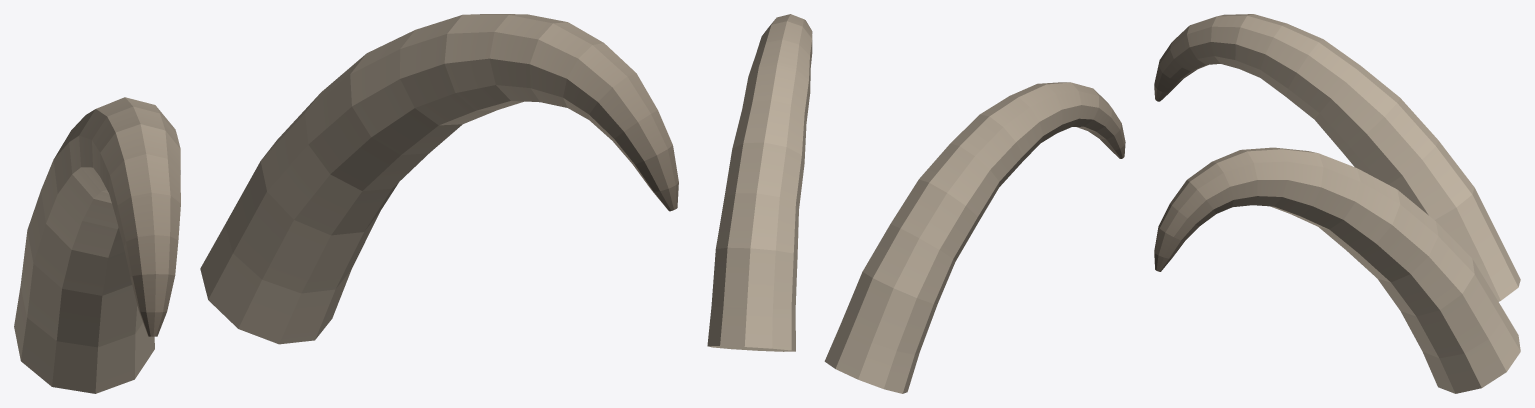
The model's file is horns_curved_pair.glb.
The picture shows the model from 3 angles, left to right: view 1: azimuth 30°, elevation 25°; view 2: azimuth 150°, elevation 25°; view 3: azimuth 270°, elevation 25°; orthographic projection. The views are drawn at different scales.
Visible parts, largest first — view 1: horn_R, horn_L; view 2: horn_L, horn_R; view 3: horn_R, horn_L.
Boxes of the visible parts, x1,y1,x2,y2 form: horn_R: (200,14,678,344); horn_L: (14,97,180,393); horn_L: (824,82,1125,393); horn_R: (707,14,812,351); horn_R: (1154,147,1520,393); horn_L: (1154,14,1520,301).
Bounding box in the file's own units: 0.2131 × 0.1503 × 0.1866.
